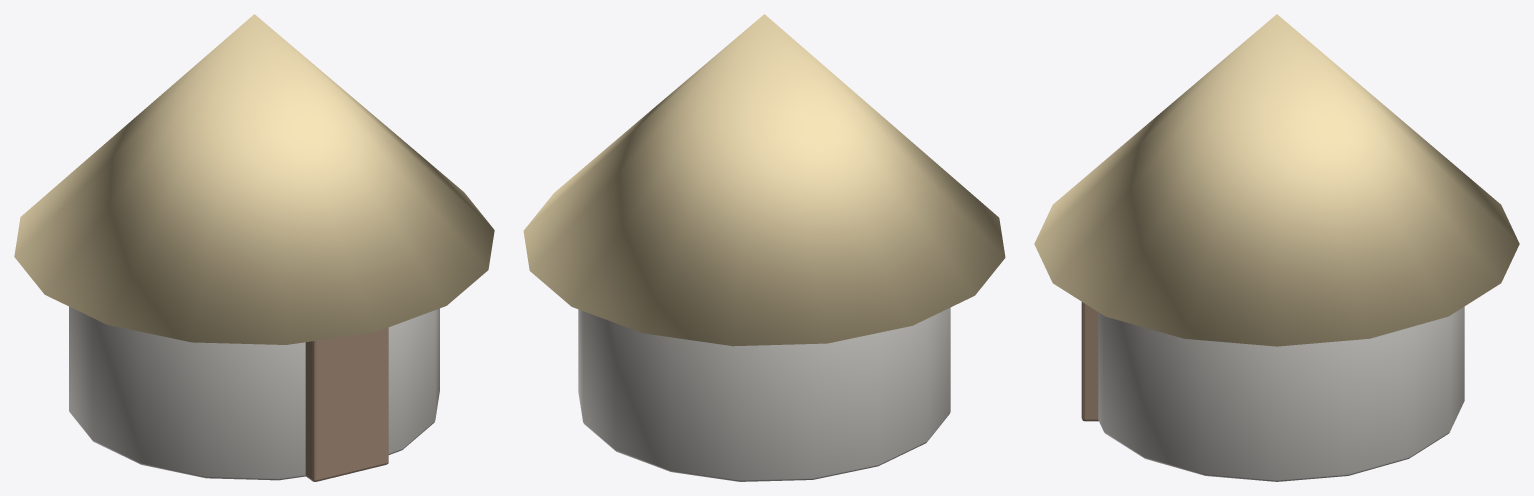
File: lm_celta_hut.glb
3 views of the same model, side by side, from view 1: azimuth 30°, elevation 25°; view 2: azimuth 150°, elevation 25°; view 3: azimuth 270°, elevation 25° (orthographic).
Visible parts, largest first — view 1: lm_celta_hut; view 2: lm_celta_hut; view 3: lm_celta_hut.
Part boxes in pixels (box(x1,y1,x2,y2)): lm_celta_hut: box(14, 14, 494, 481); lm_celta_hut: box(523, 14, 1005, 481); lm_celta_hut: box(1034, 14, 1519, 481).
Bounding box in the file's own units: 4.4 × 3.9 × 4.4.
